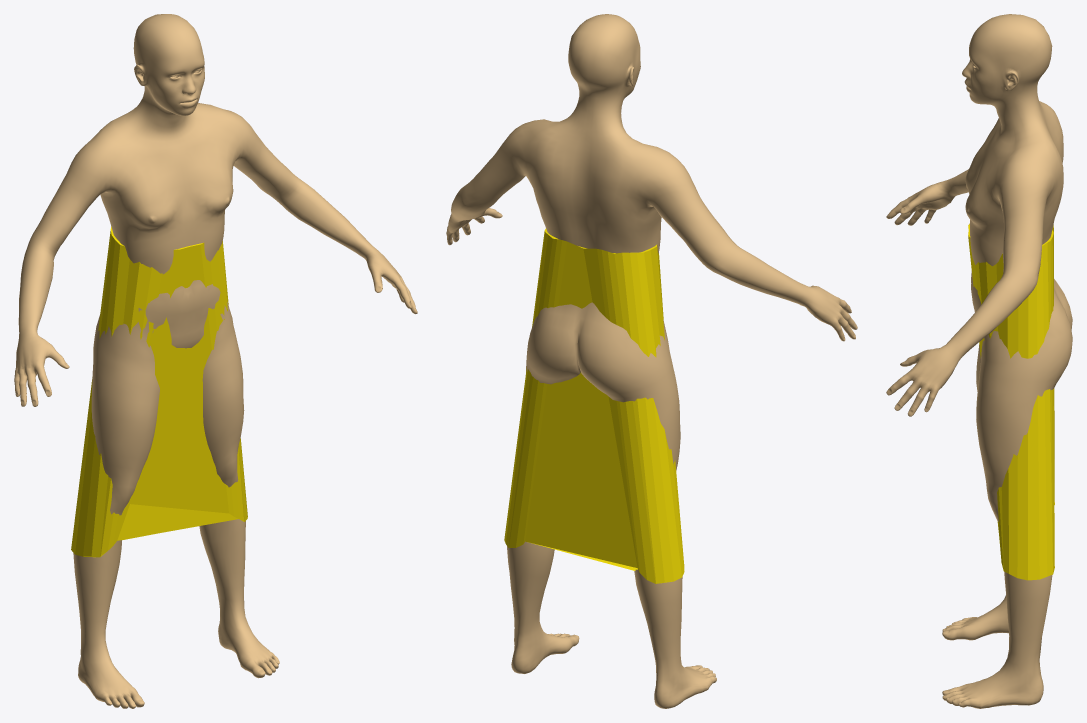
3 renders of one model, left to right at view 1: azimuth 30°, elevation 25°; view 2: azimuth 150°, elevation 25°; view 3: azimuth 270°, elevation 25°, orthographic.
Visible parts, largest first — view 1: Human, Clothing_Dress; view 2: Human, Clothing_Dress; view 3: Human, Clothing_Dress.
Part boxes in pixels (x1=…): Human: x1=14, y1=14, x2=417, y2=708; Clothing_Dress: x1=71, y1=226, x2=247, y2=557; Human: x1=446, y1=14, x2=857, y2=708; Clothing_Dress: x1=504, y1=228, x2=684, y2=583; Human: x1=886, y1=14, x2=1072, y2=708; Clothing_Dress: x1=968, y1=223, x2=1054, y2=580.
Bounding box in the file's own units: 1.08 × 1.71 × 0.4426.
